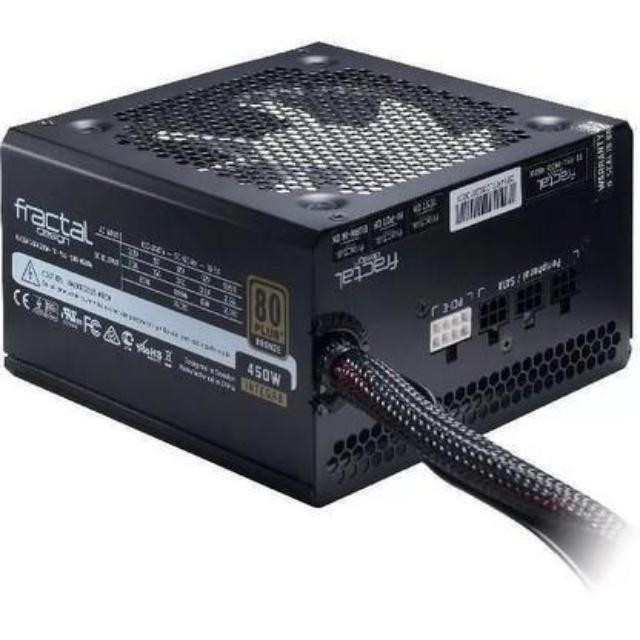PSU: (0, 38, 640, 510)
